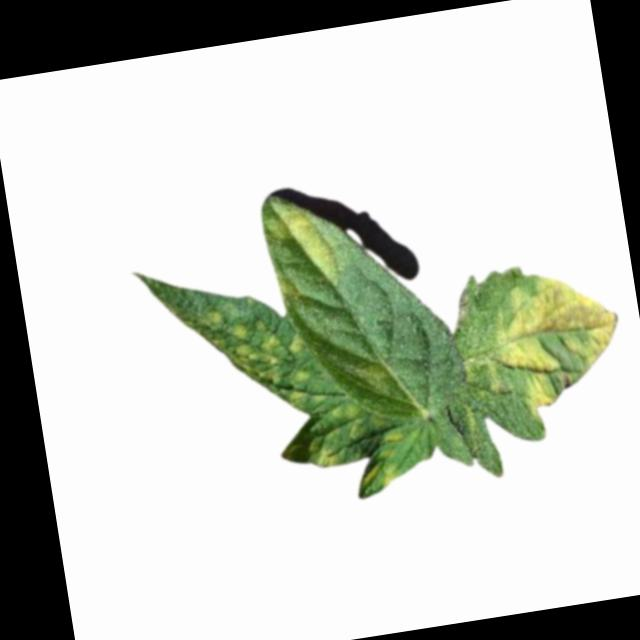Leaf_Mold: (471, 265, 632, 427), (180, 294, 321, 427), (262, 199, 343, 303), (349, 431, 415, 500), (301, 428, 343, 471)
